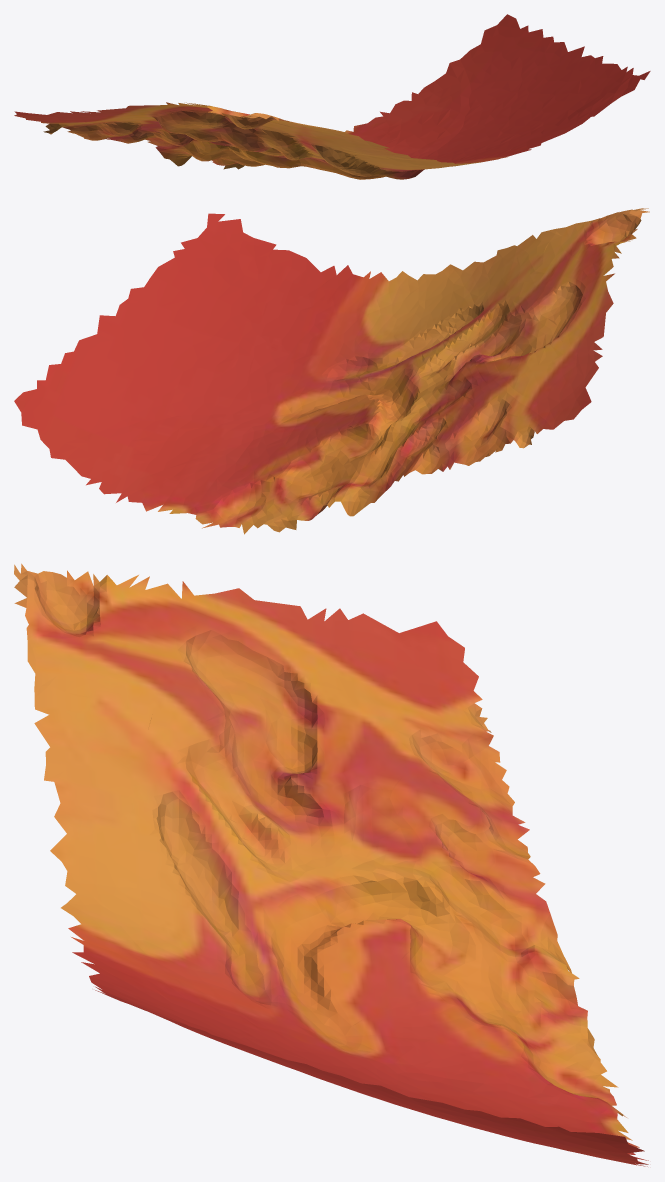
3 renders of one model, top to bottom at view 1: azimuth 30°, elevation 25°; view 2: azimuth 150°, elevation 25°; view 3: azimuth 270°, elevation 25°, orthographic. The views are drawn at different scales.
Visible parts, largest first — view 1: tripo_mesh_045d8eb0-72ec-4624-9759-a425f321d17a; view 2: tripo_mesh_045d8eb0-72ec-4624-9759-a425f321d17a; view 3: tripo_mesh_045d8eb0-72ec-4624-9759-a425f321d17a.
Boxes of the visible parts, left/top/right/bottom form: tripo_mesh_045d8eb0-72ec-4624-9759-a425f321d17a: left=14, top=14, right=650, bottom=179; tripo_mesh_045d8eb0-72ec-4624-9759-a425f321d17a: left=14, top=208, right=649, bottom=534; tripo_mesh_045d8eb0-72ec-4624-9759-a425f321d17a: left=14, top=563, right=648, bottom=1166.
Size of the model in its own units: 0.2892 by 0.1261 by 0.1992.
1 material, 1 textured.
